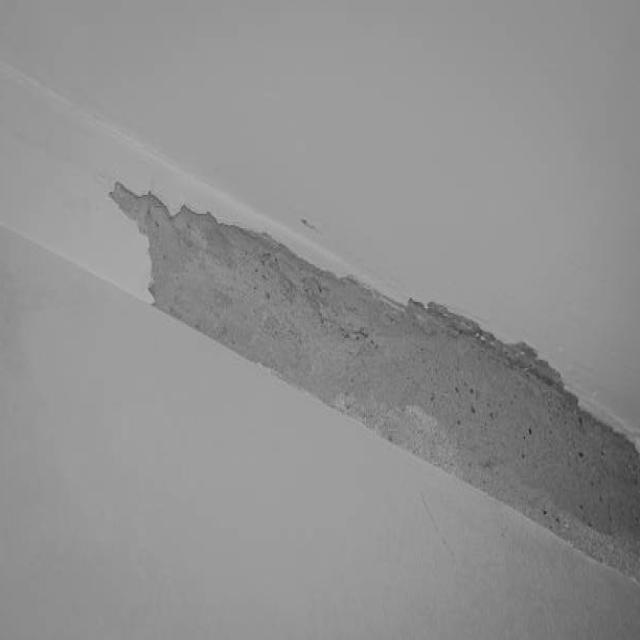peeling paint: (74, 106, 640, 592)
